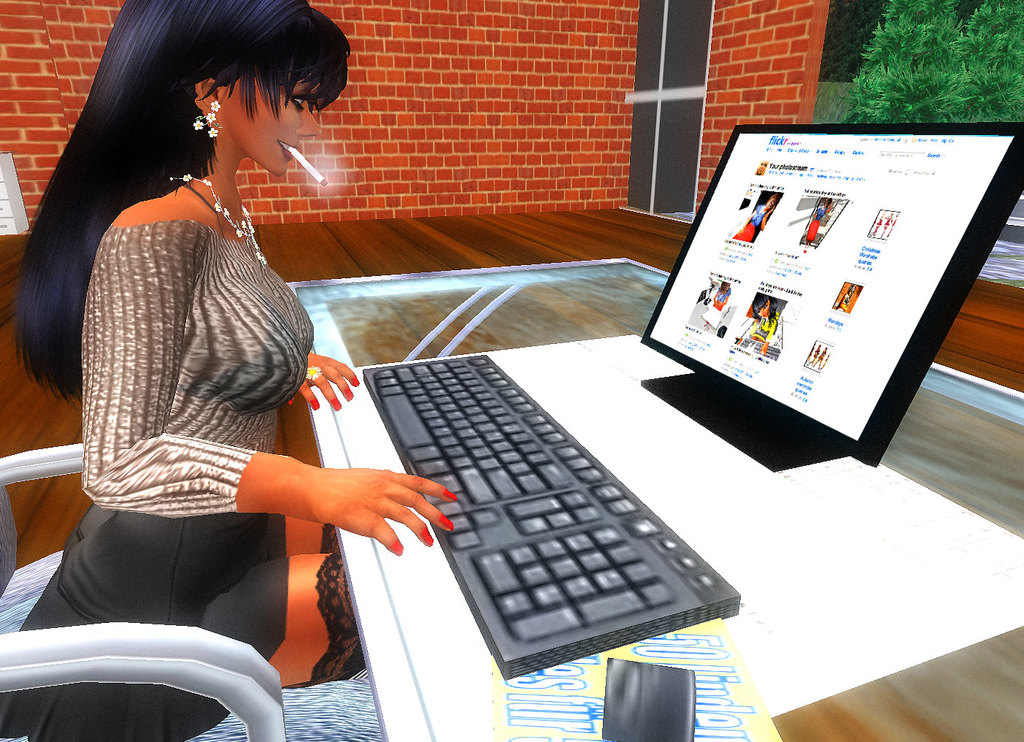Human_hand: (272, 462, 460, 567), (283, 348, 360, 413)
